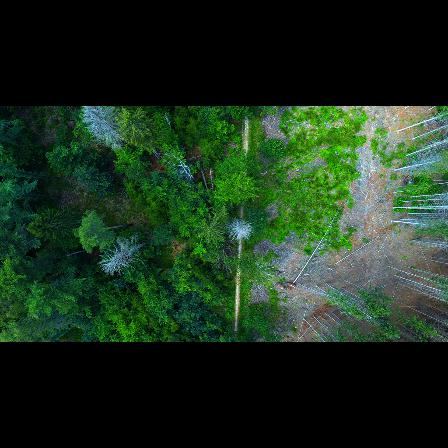Dead: (77, 105, 133, 156), (98, 231, 148, 275), (227, 216, 256, 244)
